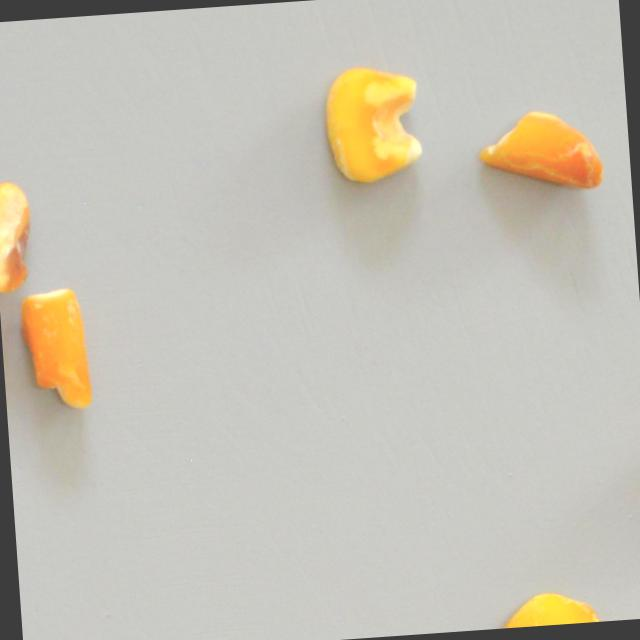dañado: (472, 102, 608, 204), (11, 283, 103, 419), (0, 180, 39, 296)
pelicula: (321, 62, 428, 187), (494, 588, 609, 628)
